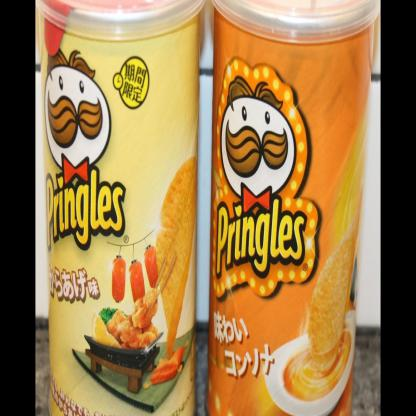potatochip: (203, 0, 379, 415), (38, 0, 207, 415)
